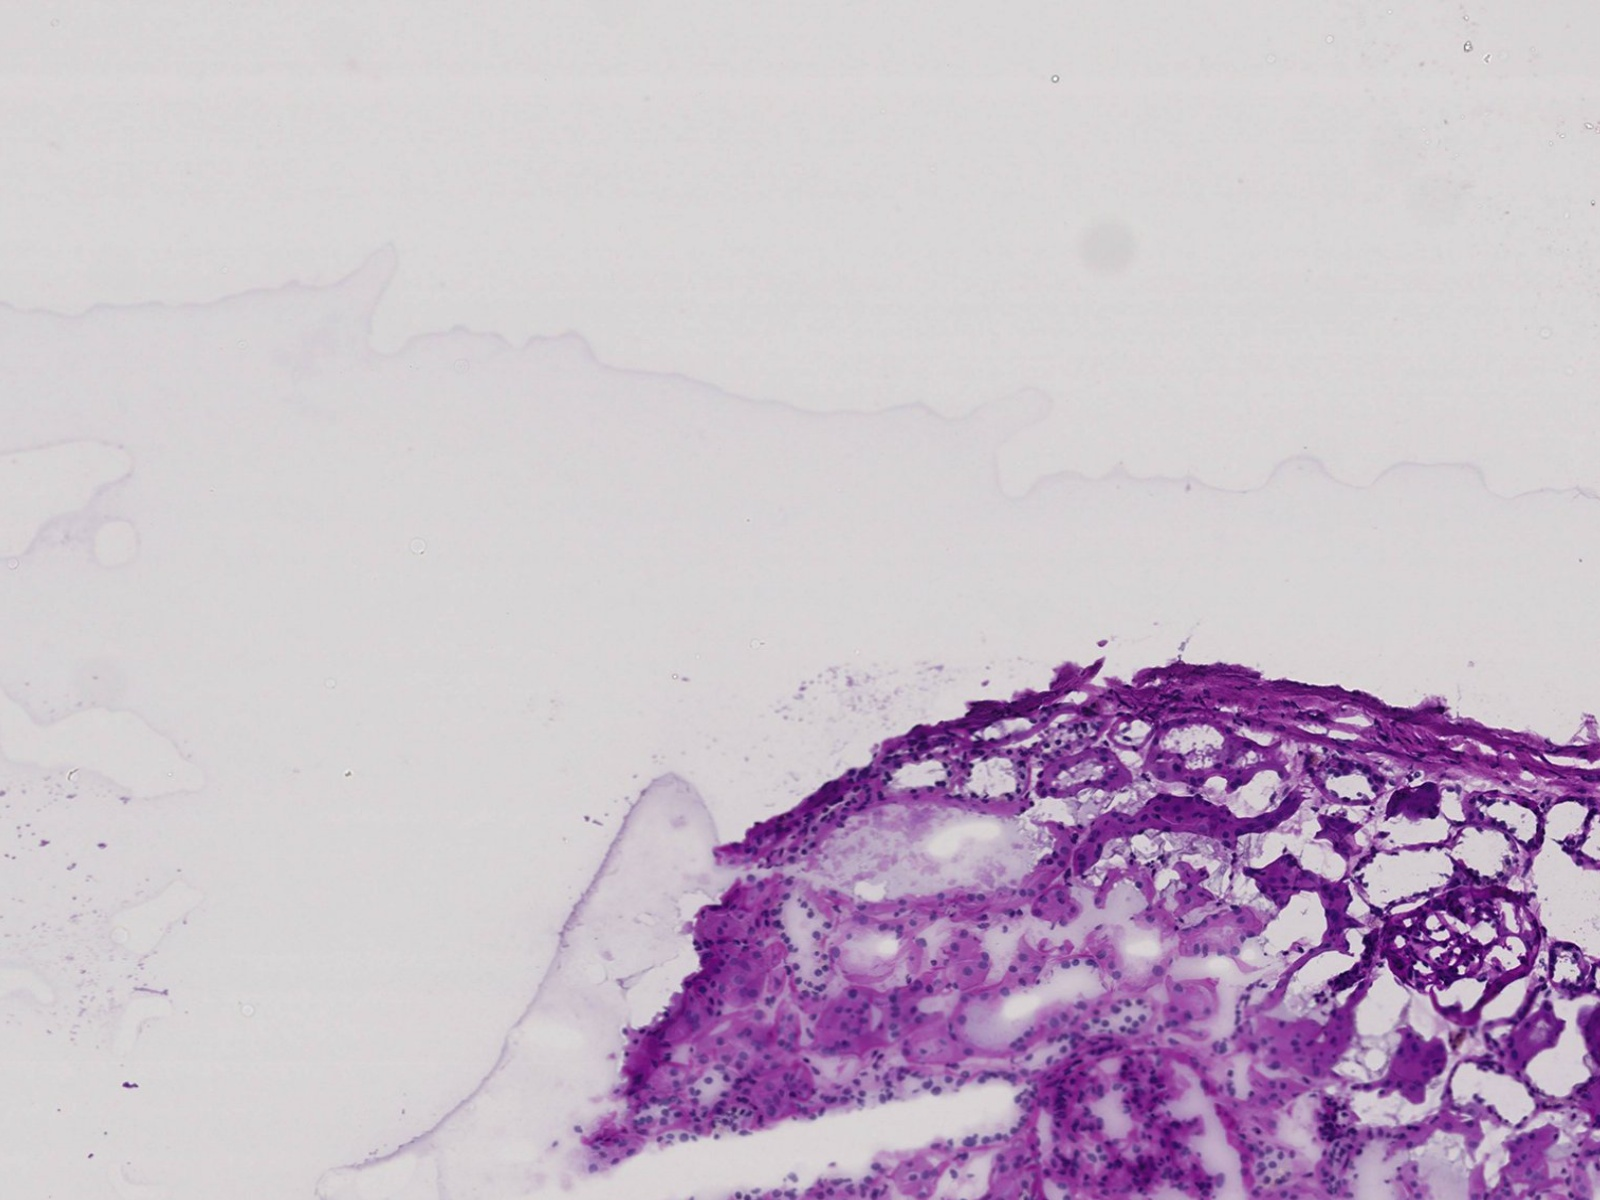Glomeruli: (1024, 1041, 1260, 1199)
